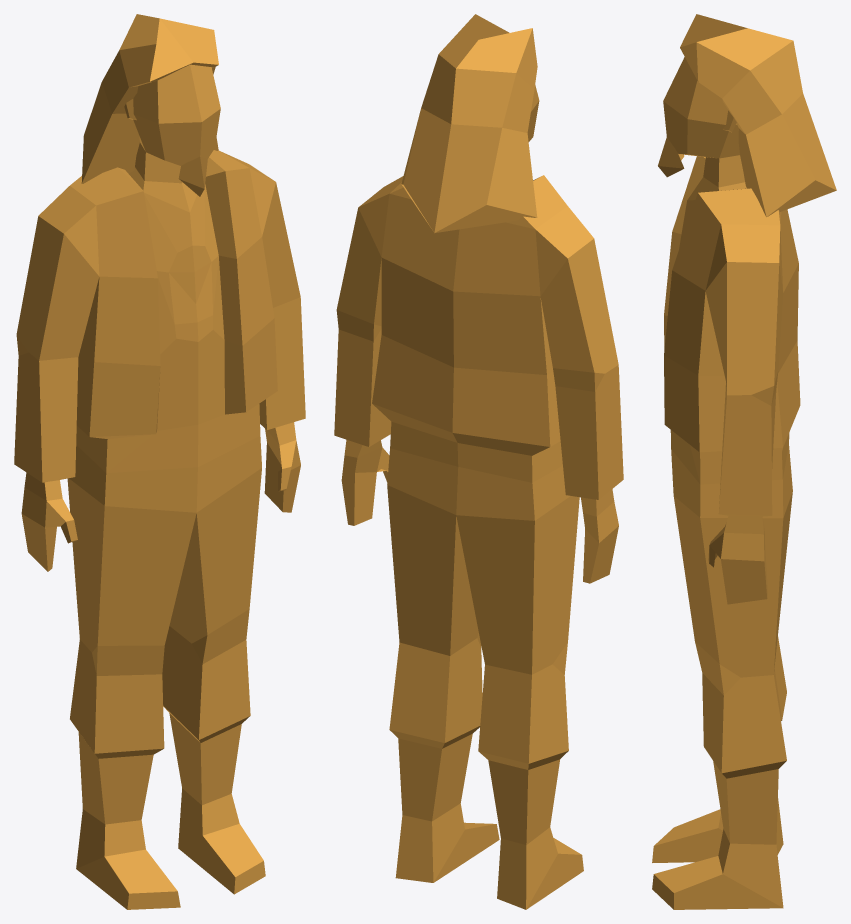
Rendered from man-metalhead.fbx.
The picture shows the model from 3 angles, left to right: view 1: azimuth 30°, elevation 25°; view 2: azimuth 150°, elevation 25°; view 3: azimuth 270°, elevation 25°; orthographic projection.
Visible parts, largest first — view 1: man-metalhead; view 2: man-metalhead; view 3: man-metalhead.
Part boxes in pixels (<box>): man-metalhead: <box>14,14,305,909</box>; man-metalhead: <box>334,14,623,909</box>; man-metalhead: <box>652,14,836,909</box>.
Bounding box in the file's own units: 0.599 × 1.82 × 0.3597.
